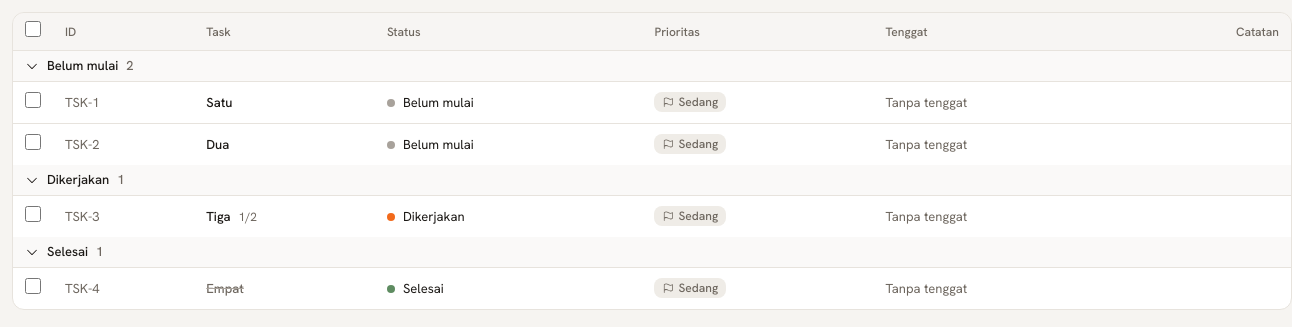
Test case: TaskTable groups › lists groups with counts and collapses one, leaving selection ranges to the visible rows
This screenshot has width=1292, height=327.
Click the button "Belum mulai 2". click: x=79, y=66
box: x1=25 y1=57 x2=134 y2=75
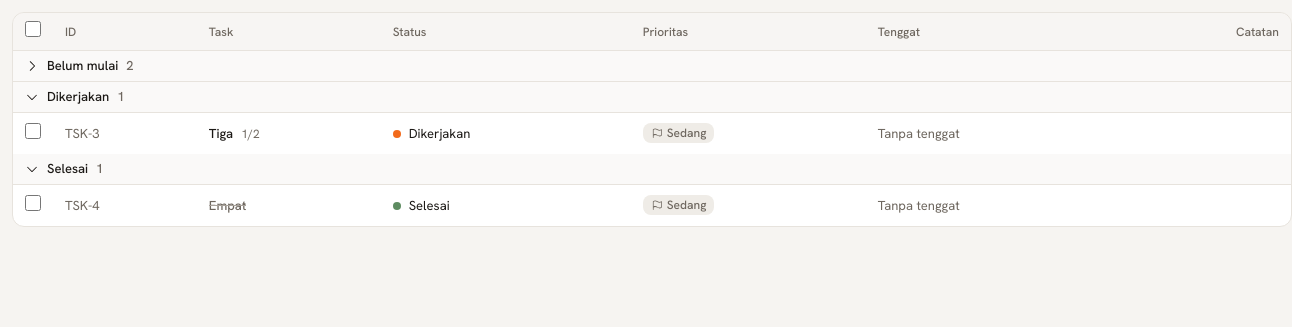
Now the button "Belum mulai 2" is collapsed, box x1=25 y1=57 x2=134 y2=75
Click the checkbox named "Pilih Tiga". click: x=33, y=131
box: x1=25 y1=123 x2=41 y2=139
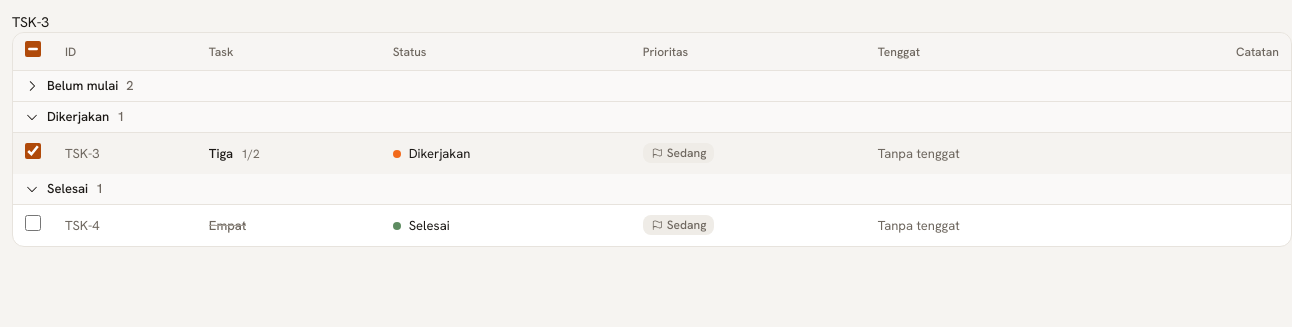
Click the checkbox named "Pilih Empat". click: x=33, y=223
box: x1=25 y1=215 x2=41 y2=231
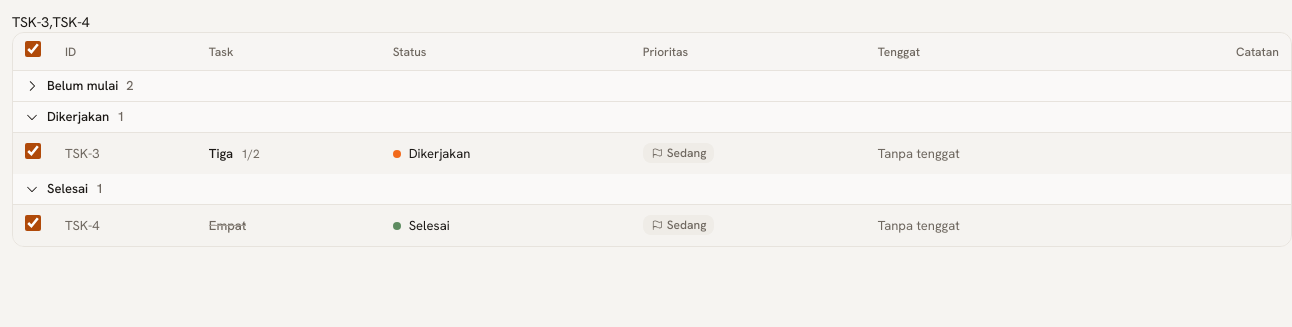
Now the text with test id "picked" reads "TSK-3,TSK-4", box x1=12 y1=13 x2=90 y2=31
